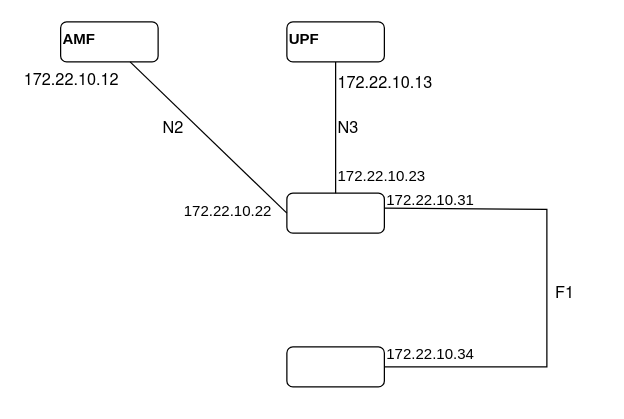
The diagram is 624 pixels wide and 419 high, and some of its shapes have lost their labels. Each missing label, with the centre of its shape:
CU: the point at 335,212
DU: the point at 335,366
